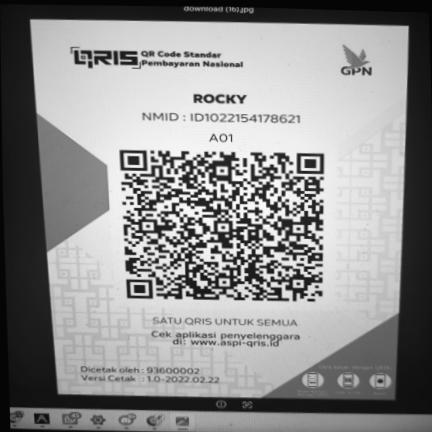Cara Pakai QRIS: (291, 359, 392, 398)
Cek Aplikasi Penyelenggara: (147, 329, 310, 348)
Dicetak Oleh: (79, 365, 206, 374)
Logo GPN: (326, 40, 382, 79)
Logo dan deskripsi QRIS: (62, 41, 251, 74)
Nama Merchant: (186, 89, 253, 107)
National Merchant ID: (134, 109, 307, 127)
QR Code: (113, 145, 331, 309)
Slogan: (146, 312, 307, 330)
Terminal ID: (201, 129, 239, 145)
Versi Cetak: (78, 373, 224, 385)
